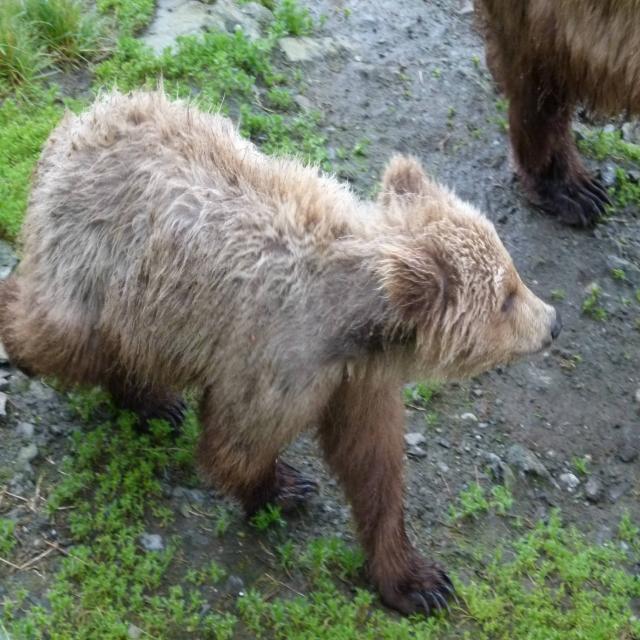bear face: (7, 87, 558, 615), (475, 0, 640, 235)
